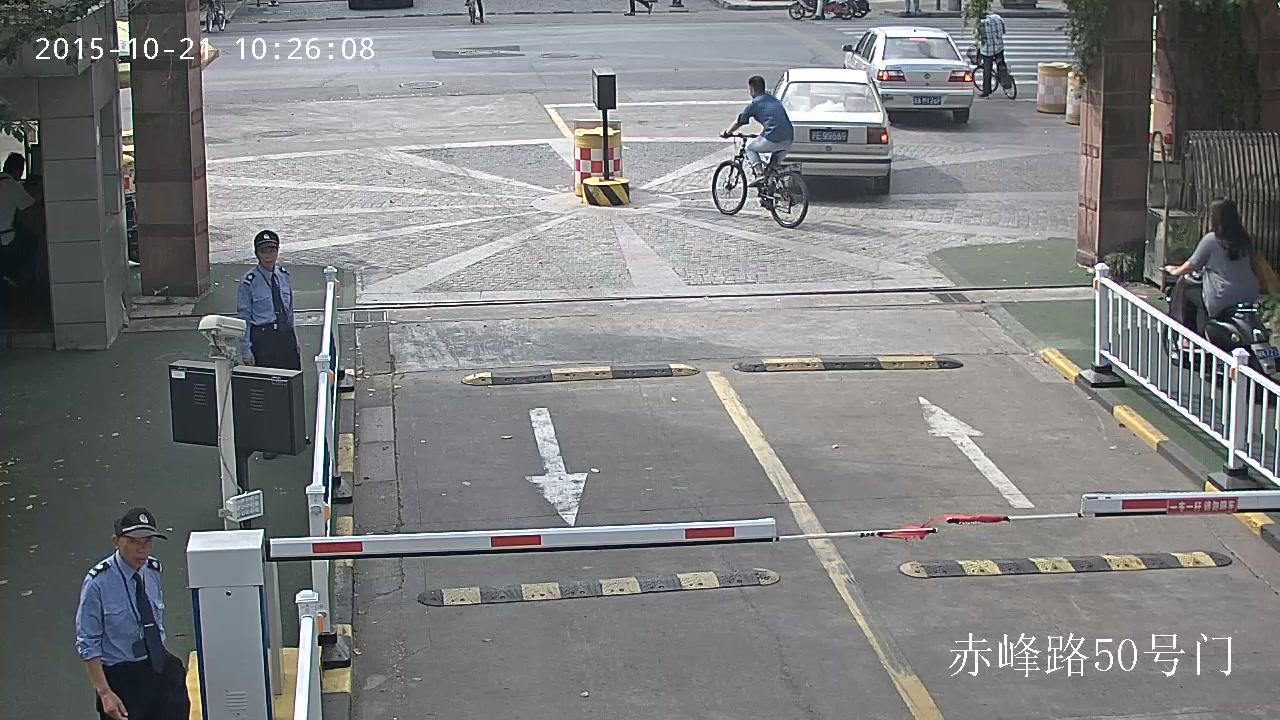face: (119, 535, 152, 567), (257, 246, 277, 267), (747, 83, 754, 97), (18, 162, 24, 178)
